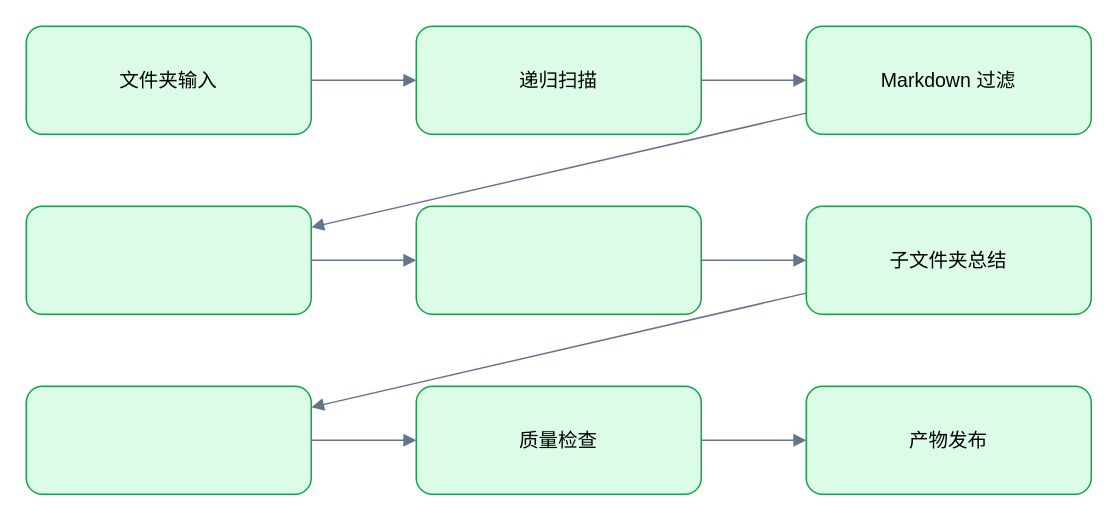
Some shapes in this 1118 by 521 pixel diagram are drawn without their labels. Here are the shapes that lost their labels. From the top down, the box of each, then its label:
(25, 205, 311, 314): Markdown 解析
(415, 205, 701, 314): 子文件夹分组
(25, 385, 311, 494): 总览总结
